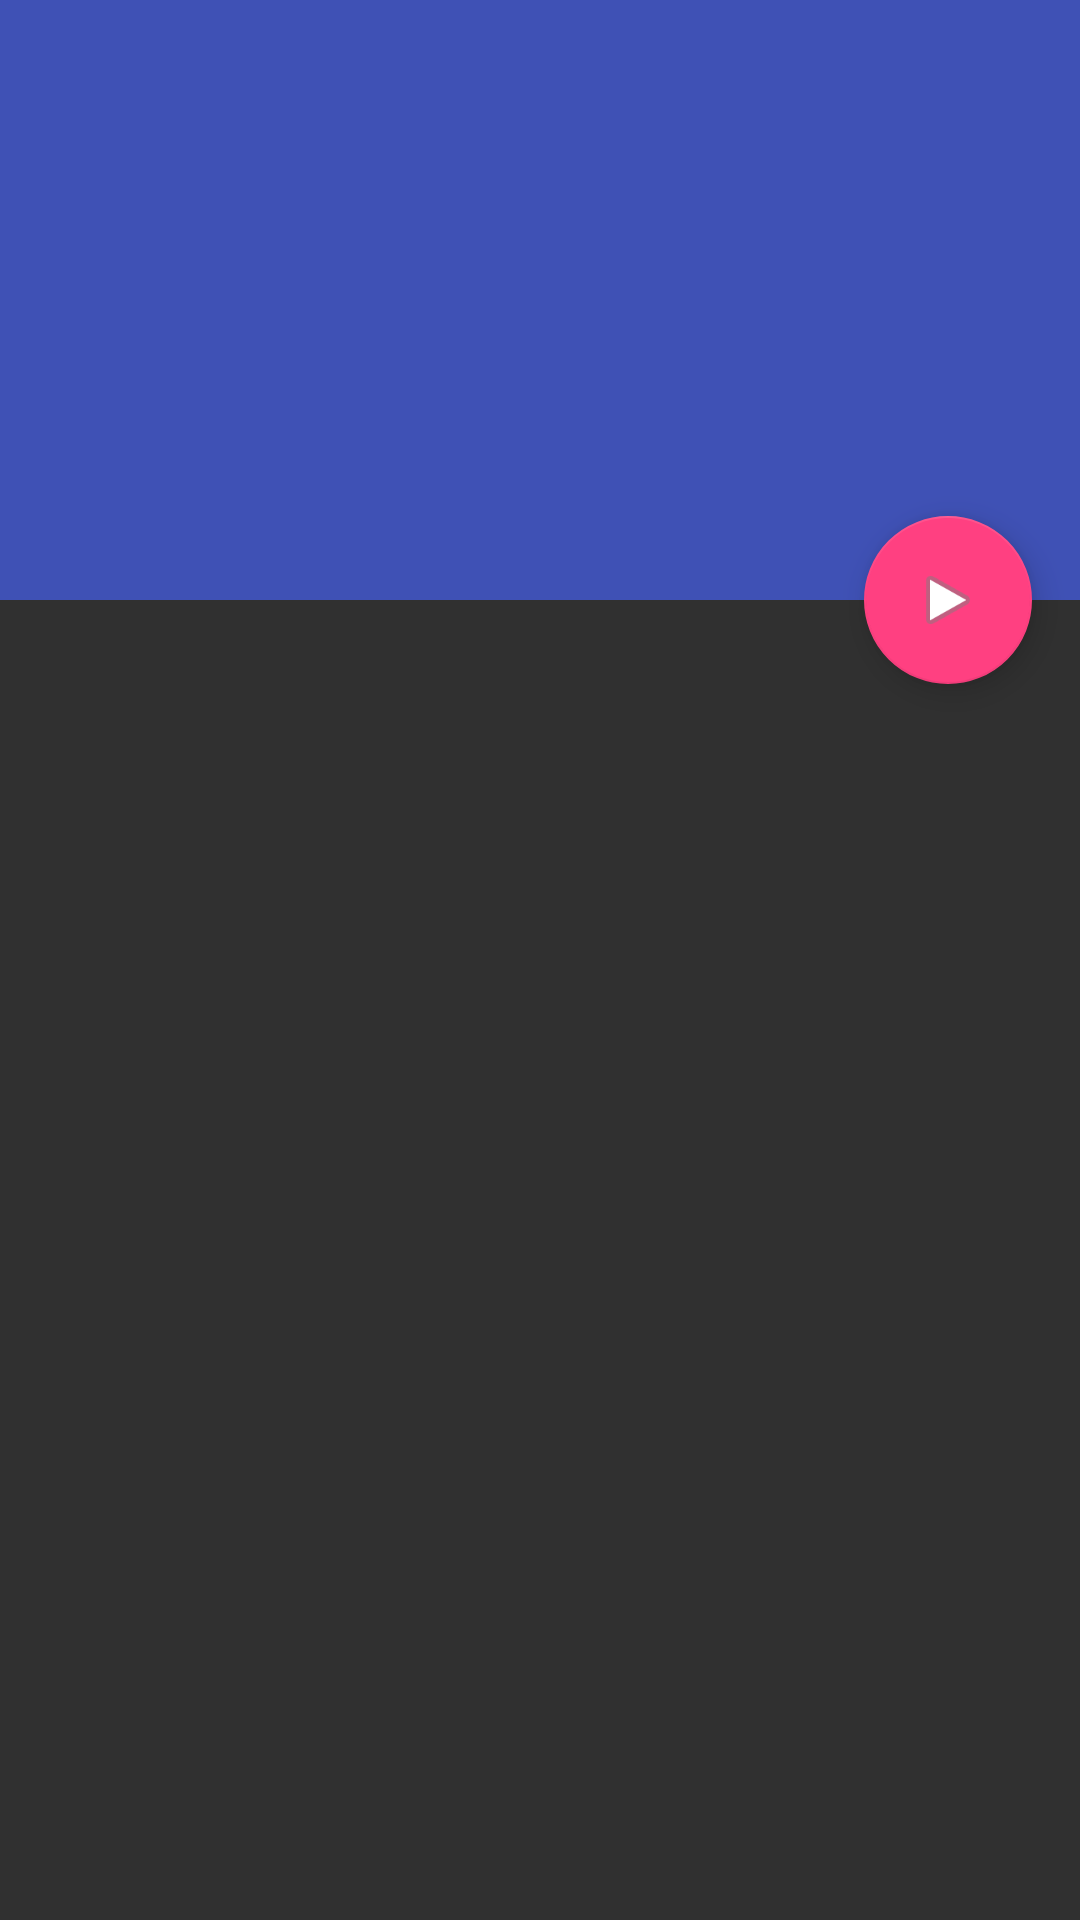

Icon click points for this 1080 × 1920 phone screenshot, format point (x, y):
play: point (948, 600)
